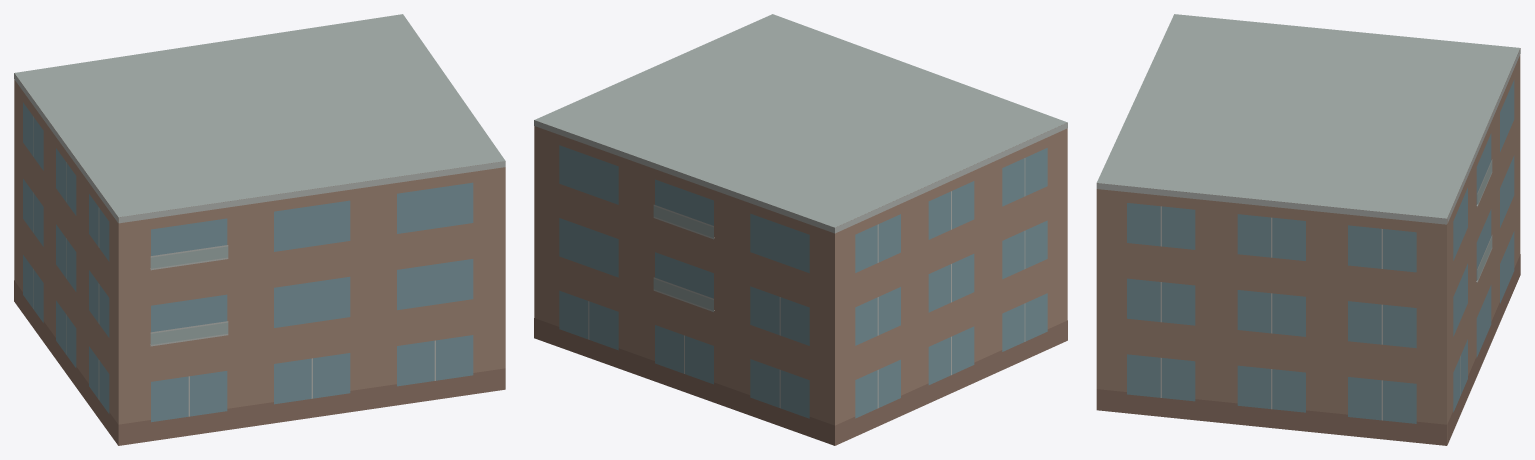
Rendered from survey-upis-33031254.glb.
3 renders of one model, left to right at view 1: azimuth 30°, elevation 25°; view 2: azimuth 150°, elevation 25°; view 3: azimuth 270°, elevation 25°, orthographic. The views are drawn at different scales.
Parts seen in each view (by area): view 1: survey-upis-33031254.tmp; view 2: survey-upis-33031254.tmp; view 3: survey-upis-33031254.tmp.
Boxes of the visible parts, x1,y1,x2,y2 form: survey-upis-33031254.tmp: [14, 14, 505, 445]; survey-upis-33031254.tmp: [534, 14, 1067, 445]; survey-upis-33031254.tmp: [1096, 14, 1520, 445].
Bounding box in the file's own units: 17.68 × 9.15 × 15.48.
